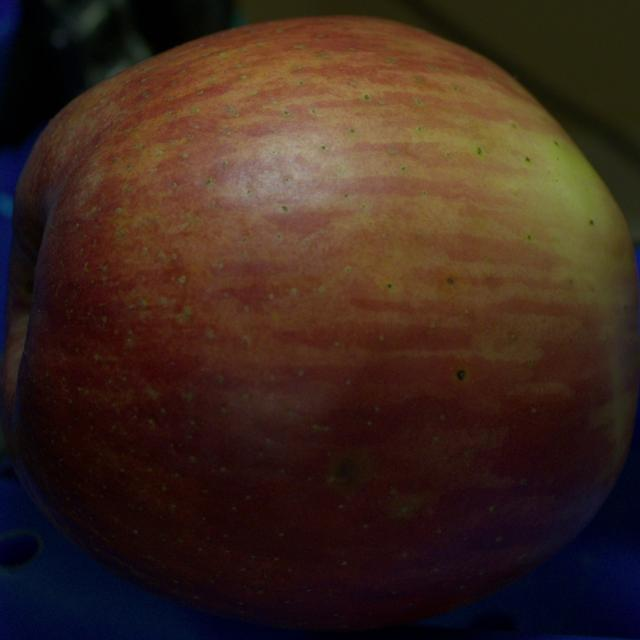apple: (0, 17, 639, 629)
pest: (457, 369, 466, 379)
rotten: (328, 454, 370, 486)
